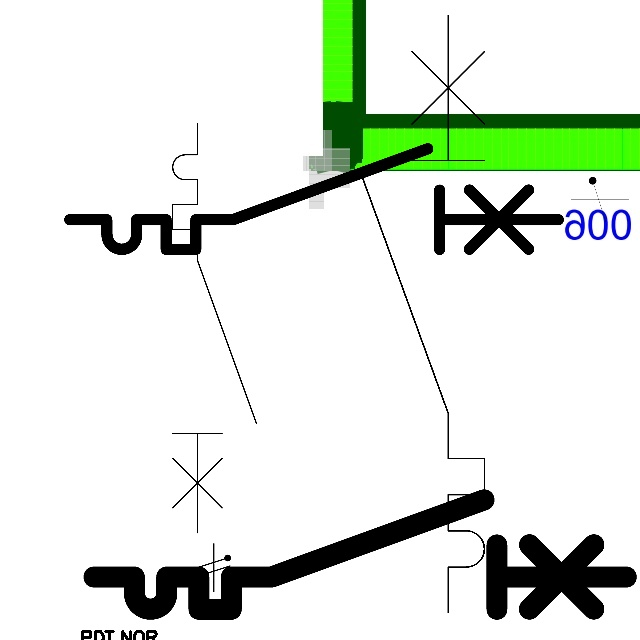interruptor_termomagnetico: (346, 0, 500, 628), (80, 486, 640, 623), (57, 136, 571, 262), (162, 113, 267, 543)
